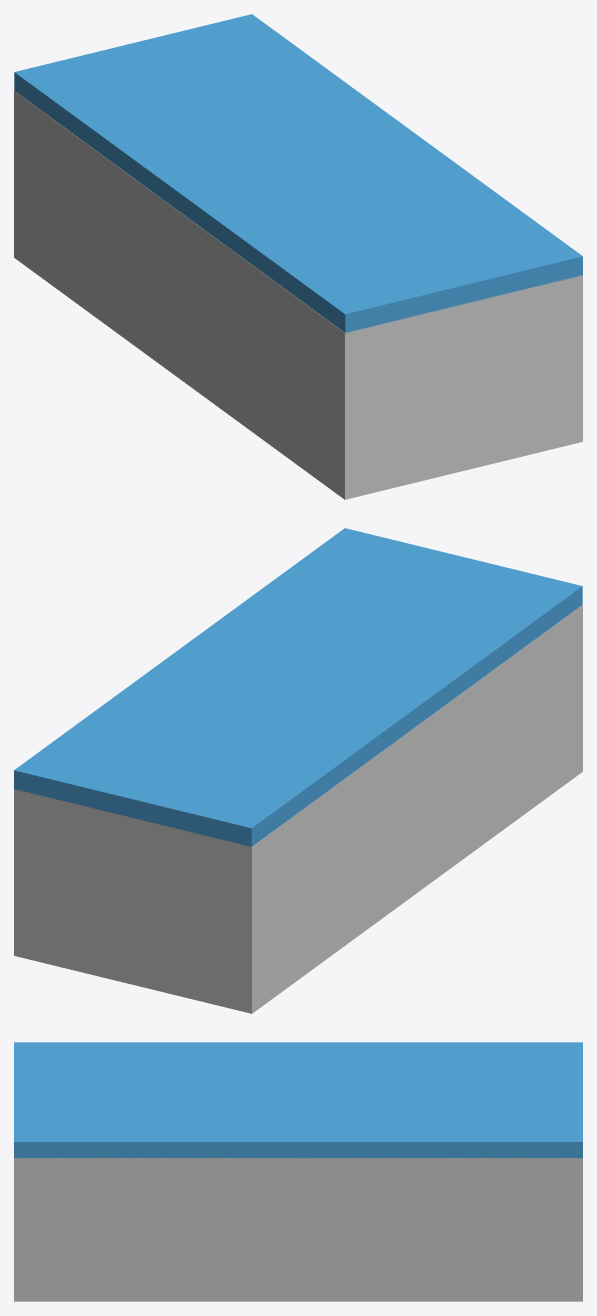
File: oxidation.gltf
3 renders of one model, top to bottom at view 1: azimuth 30°, elevation 25°; view 2: azimuth 150°, elevation 25°; view 3: azimuth 270°, elevation 25°, orthographic. The views are drawn at different scales.
Visible parts, largest first — view 1: Cube, Cube.002; view 2: Cube, Cube.002; view 3: Cube, Cube.002.
Part boxes in pixels (box(x1,y1,x2,y2)): Cube: box(14, 91, 582, 499); Cube.002: box(14, 14, 582, 332); Cube: box(14, 605, 582, 1013); Cube.002: box(14, 528, 582, 846); Cube: box(14, 1158, 582, 1301); Cube.002: box(14, 1042, 582, 1158).
Bounding box in the file's own units: 2 × 1.49 × 4.82.
